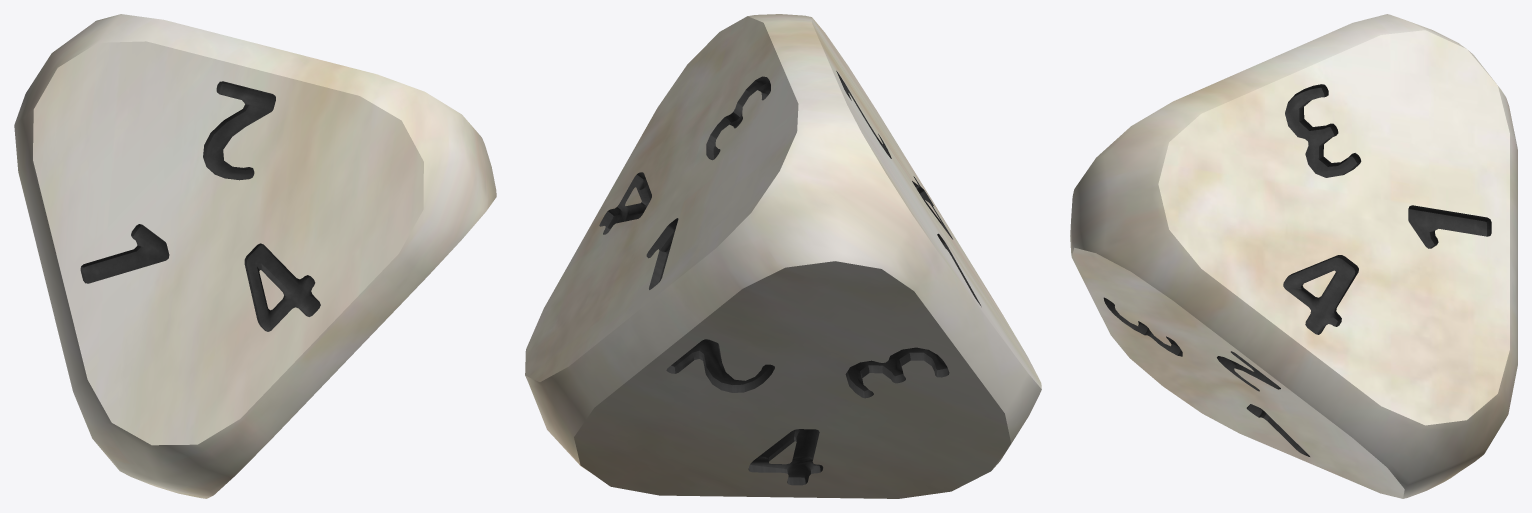
File: Dice004.fbx
The picture shows the model from 3 angles, left to right: view 1: azimuth 30°, elevation 25°; view 2: azimuth 150°, elevation 25°; view 3: azimuth 270°, elevation 25°; orthographic projection. The views are drawn at different scales.
Parts seen in each view (by area): view 1: Dice004; view 2: Dice004; view 3: Dice004.
Boxes of the visible parts, left/top/right/bottom form: Dice004: left=14, top=14, right=496, bottom=498; Dice004: left=525, top=14, right=1041, bottom=498; Dice004: left=1070, top=14, right=1517, bottom=498.
Size of the model in its own units: 4.72 by 4.72 by 4.7.
Materials: 1 (1 with a texture image).
